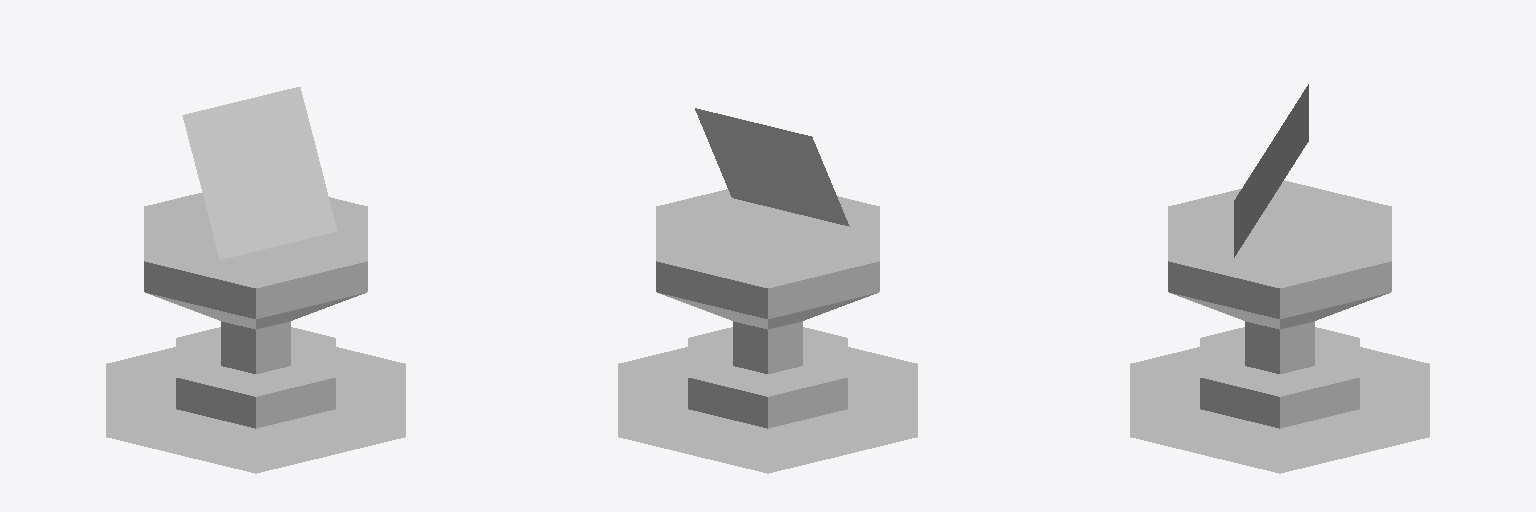
File: National Park Fountain (Small).obj
3 views of the same model, side by side, from view 1: azimuth 30°, elevation 25°; view 2: azimuth 150°, elevation 25°; view 3: azimuth 270°, elevation 25° (orthographic).
Visible parts, largest first — view 1: polygon2, polygon1, polygon0; view 2: polygon2, polygon1, polygon0; view 3: polygon2, polygon1, polygon0.
Boxes of the visible parts, <box> form: polygon2: <box>144,193,367,428</box>; polygon1: <box>106,347,405,473</box>; polygon0: <box>182,87,337,259</box>; polygon2: <box>656,189,879,428</box>; polygon1: <box>618,347,917,473</box>; polygon0: <box>695,108,849,226</box>; polygon2: <box>1168,180,1391,428</box>; polygon1: <box>1130,347,1429,473</box>; polygon0: <box>1234,84,1308,257</box>.
Size of the model in its own units: 36.65 by 33.71 by 31.74.